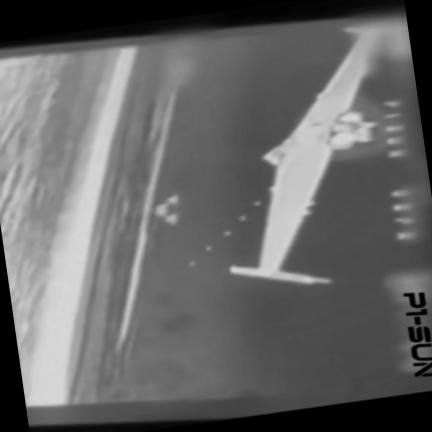Shahed: (228, 27, 376, 284)
